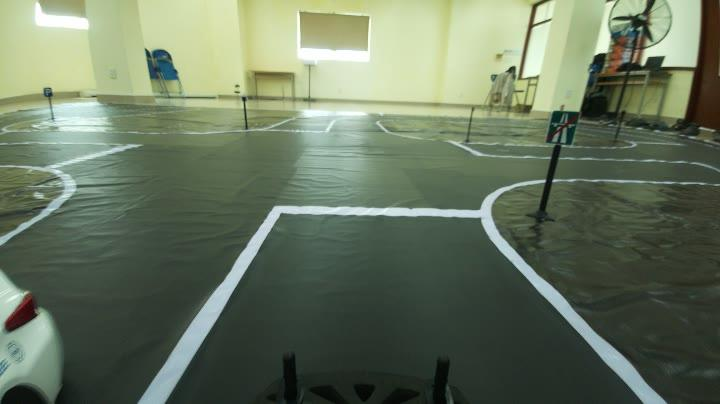highway_exit: (548, 104, 582, 148)
